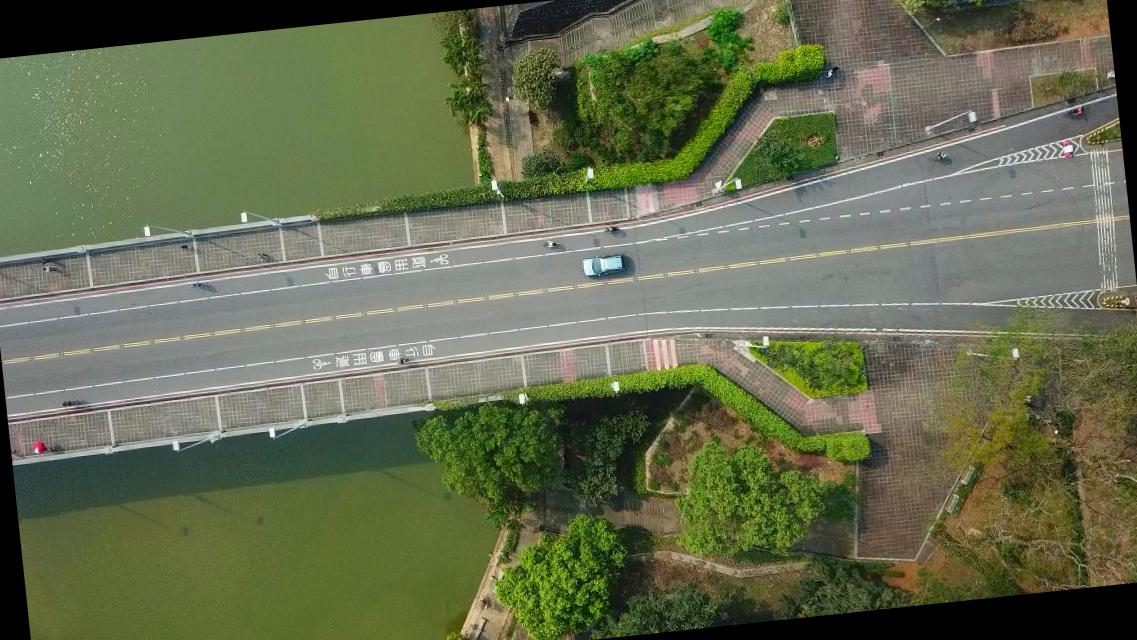vehicle: (582, 252, 628, 279)
